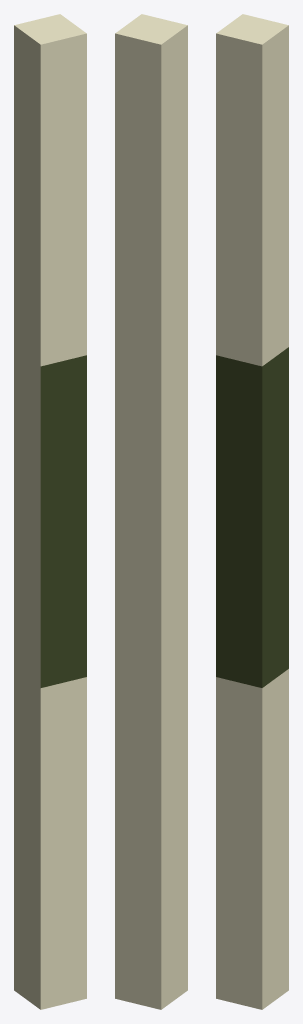
Rendered from InteriorWall_EndCap_BR90_ExportPrep.gltf.
3 renders of one model, left to right at view 1: azimuth 30°, elevation 25°; view 2: azimuth 150°, elevation 25°; view 3: azimuth 330°, elevation 25°, orthographic.
Parts seen in each view (by area): view 1: InteriorWall_EndCap_90; view 2: InteriorWall_EndCap_90; view 3: InteriorWall_EndCap_90.
Boxes of the visible parts, box(x1,y1,x2,y2) form: InteriorWall_EndCap_90: box(14, 14, 86, 1009); InteriorWall_EndCap_90: box(115, 14, 187, 1009); InteriorWall_EndCap_90: box(216, 14, 288, 1009).
Bounding box in the file's own units: 0.15 × 3 × 0.15.
